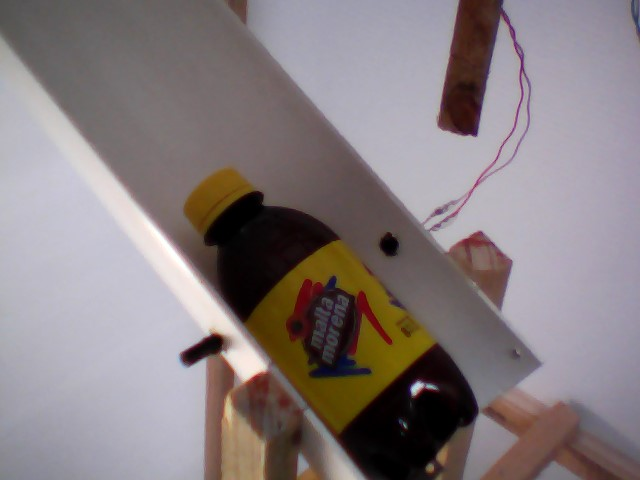plastico: (178, 161, 488, 480)
